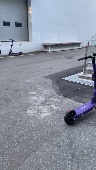beam: (62, 52, 96, 125), (6, 37, 24, 57)
